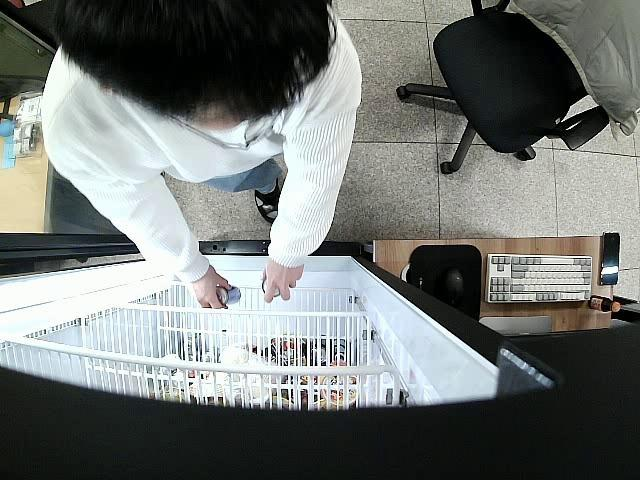16_hot6: (215, 282, 244, 307)
